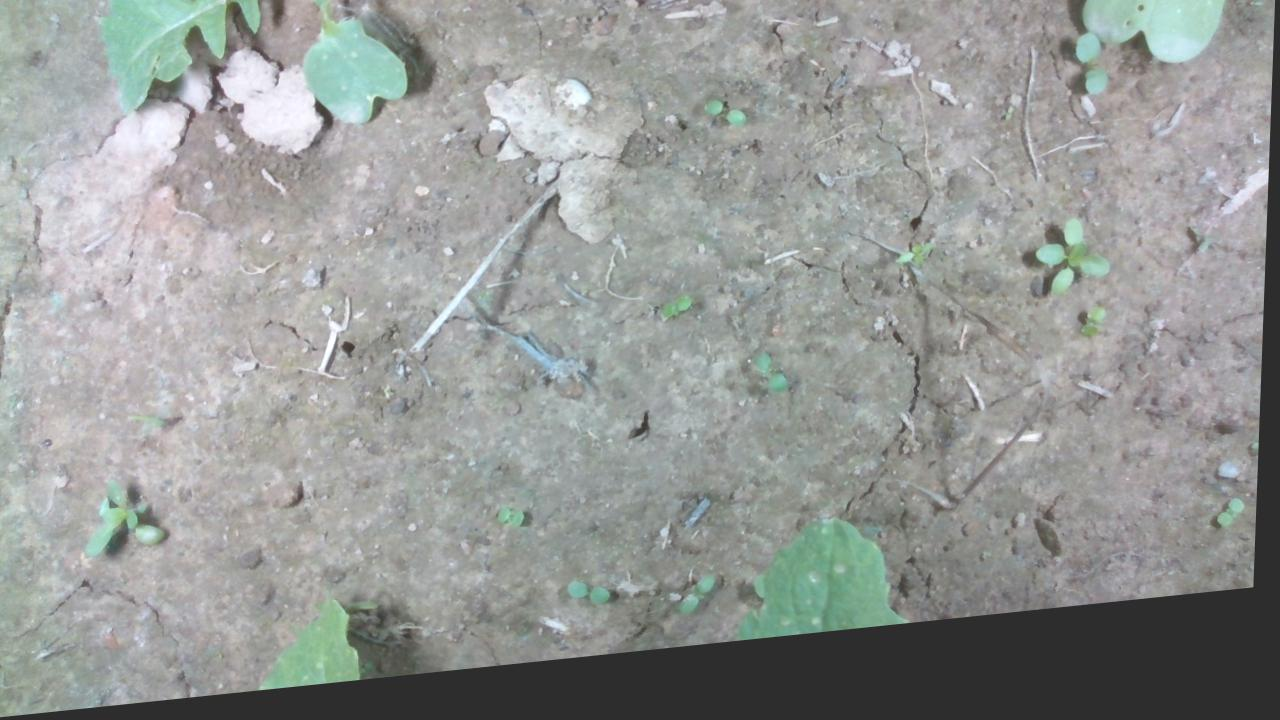weed: (1033, 235, 1116, 322), (751, 361, 793, 413), (702, 109, 749, 147), (681, 587, 720, 632), (569, 589, 615, 621), (1219, 522, 1250, 555), (1081, 327, 1110, 362), (661, 310, 694, 335), (497, 516, 529, 541), (1005, 126, 1014, 142)
